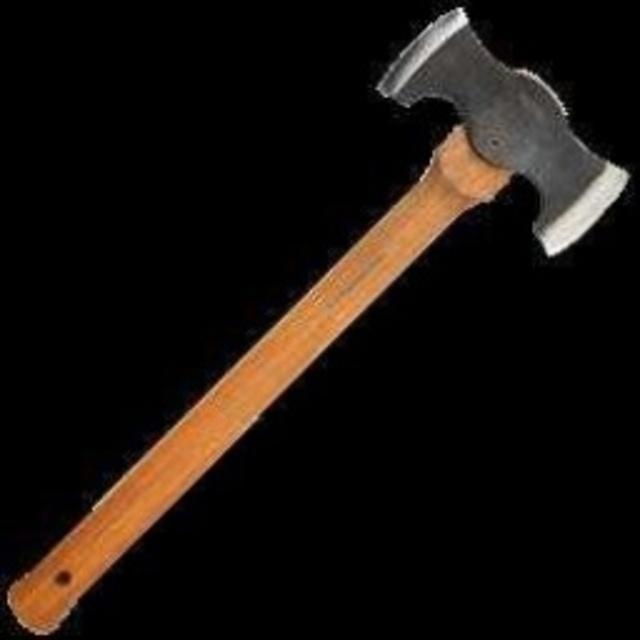ax: (2, 3, 638, 635)
